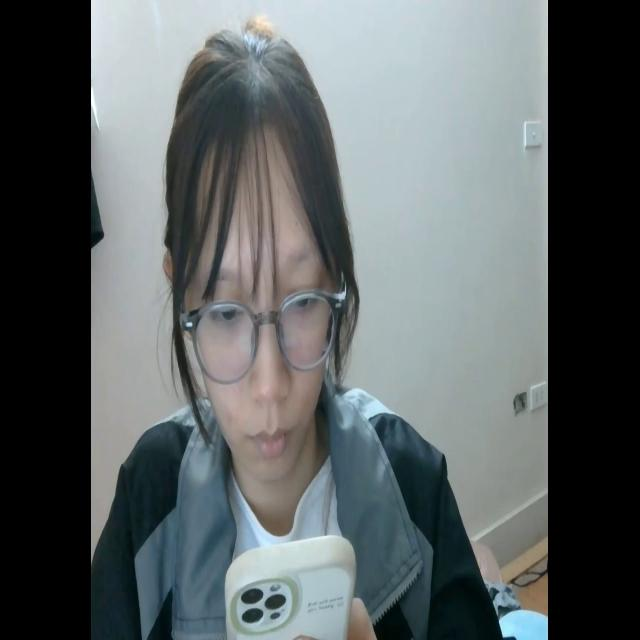phone: (222, 520, 356, 640)
student: (90, 19, 501, 640)
